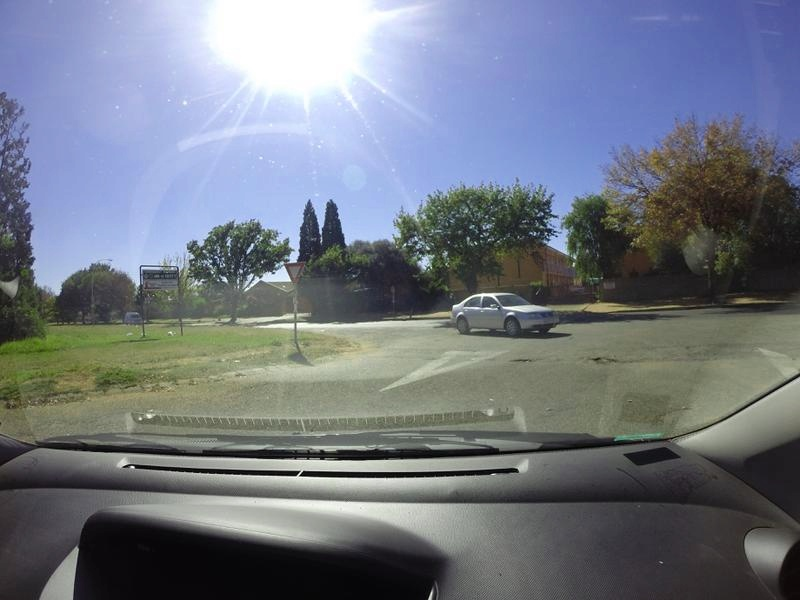pothole: (504, 354, 543, 363), (588, 354, 625, 363)
